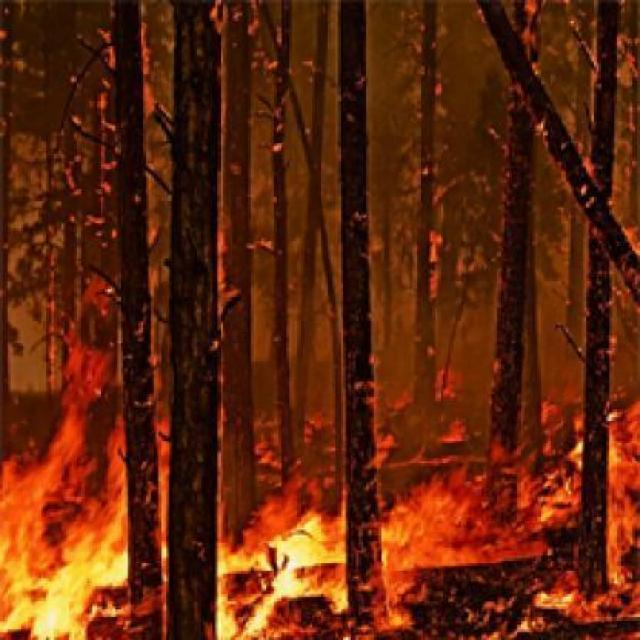Fire: (0, 406, 175, 639), (196, 482, 412, 640)
